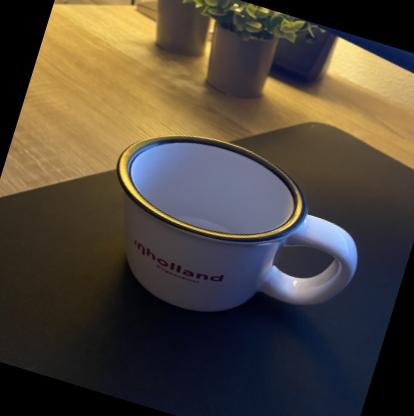Cup: (82, 111, 383, 356)
